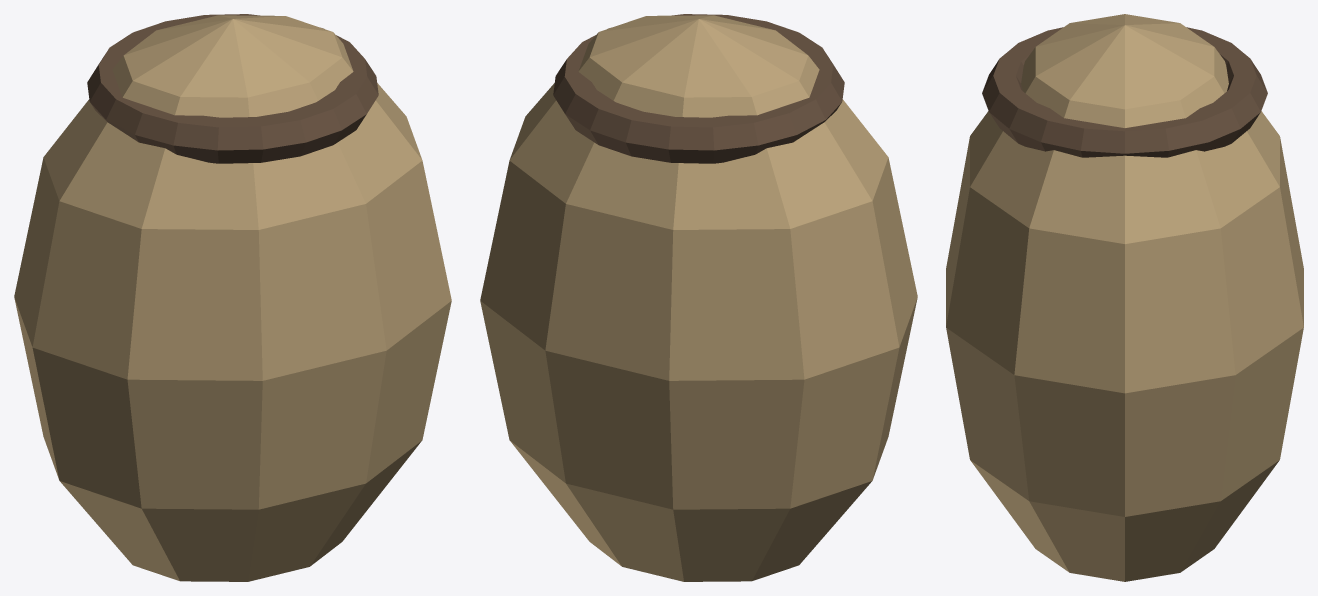
File: objects-sack.lod0.glb
The picture shows the model from 3 angles, left to right: view 1: azimuth 30°, elevation 25°; view 2: azimuth 150°, elevation 25°; view 3: azimuth 270°, elevation 25°; orthographic projection. The views are drawn at different scales.
Parts seen in each view (by area): view 1: objects-sack__body; view 2: objects-sack__body; view 3: objects-sack__body.
Part boxes in pixels (bbox=[...]): objects-sack__body: bbox=[14, 14, 451, 581]; objects-sack__body: bbox=[480, 14, 917, 581]; objects-sack__body: bbox=[946, 14, 1303, 581].
Size of the model in its own units: 0.6 by 0.8 by 0.4755.
